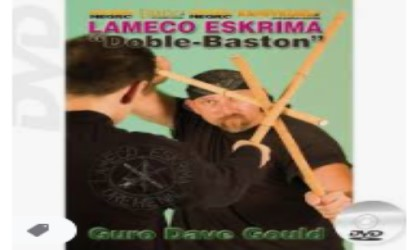baston_e: (234, 63, 326, 185), (163, 66, 315, 130), (260, 16, 339, 132)
baston_v: (312, 109, 332, 134), (226, 47, 249, 68), (332, 2, 352, 24)
